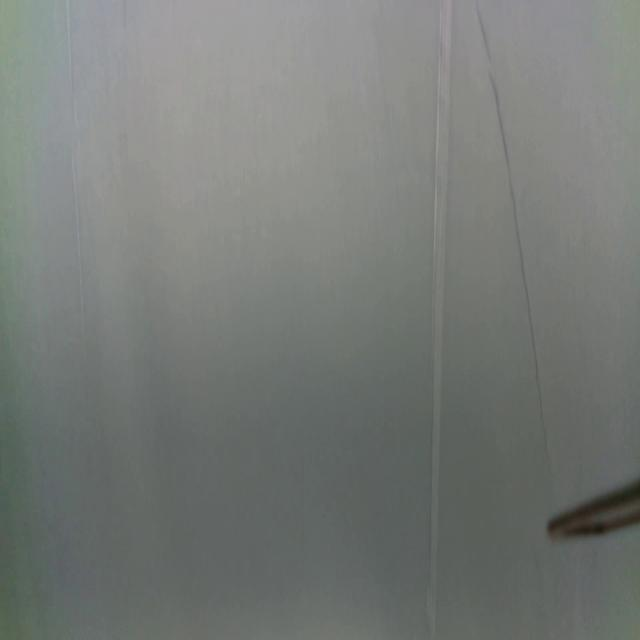crease: (472, 0, 556, 472), (428, 0, 451, 640), (64, 0, 90, 391)
